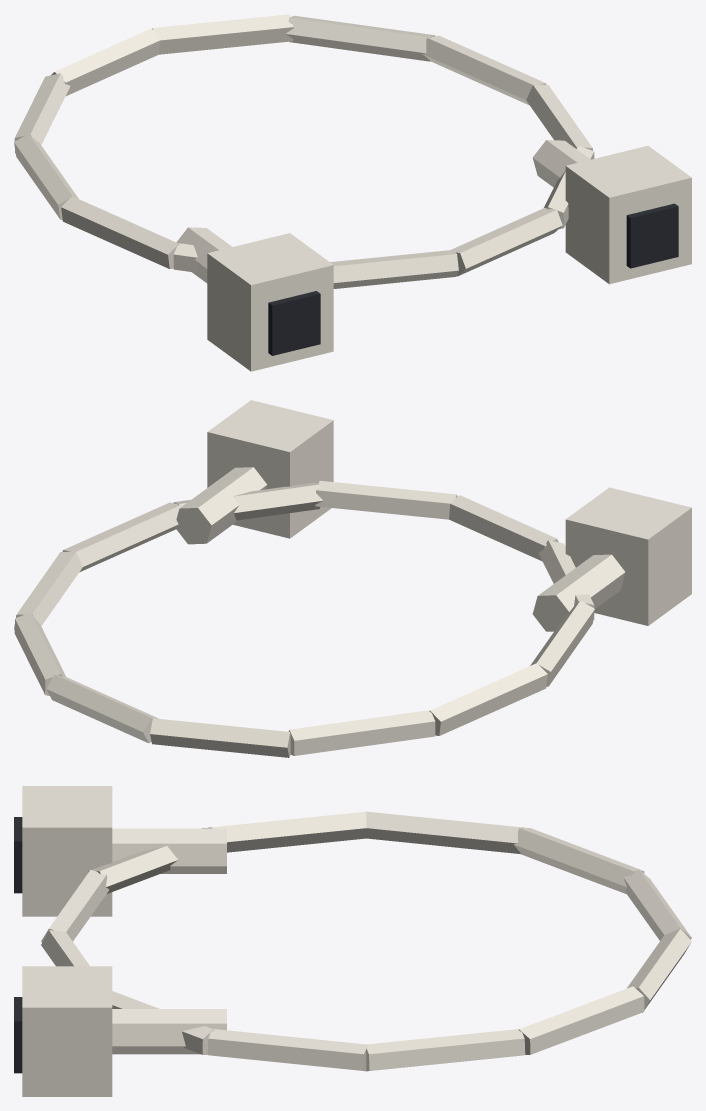
File: wire_earphones.glb
3 renders of one model, top to bottom at view 1: azimuth 30°, elevation 25°; view 2: azimuth 150°, elevation 25°; view 3: azimuth 270°, elevation 25°, orthographic. The views are drawn at different scales.
Visible parts, largest first — view 1: wire_earphones_mesh; view 2: wire_earphones_mesh; view 3: wire_earphones_mesh.
Part boxes in pixels (left/top/right/bottom): wire_earphones_mesh: left=14, top=14, right=691, bottom=371; wire_earphones_mesh: left=14, top=400, right=691, bottom=757; wire_earphones_mesh: left=14, top=786, right=691, bottom=1096.
Size of the model in its own units: 0.0711 by 0.012 by 0.0827.
1 material, 1 textured.
